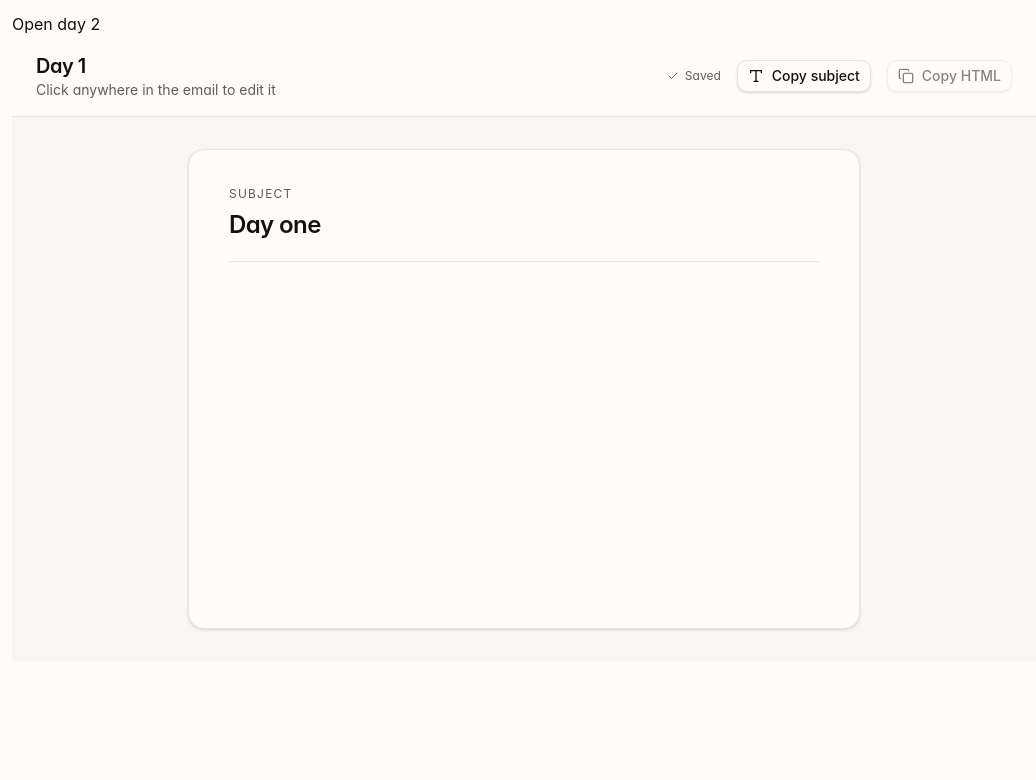
Test: EmailPreview save status and tab close › says Saving while an edit waits out the debounce, not Saved
Replace the text in the text box named "subject" with "Not yet saved" at point(524, 224), box x1=229 y1=208 x2=819 y2=241
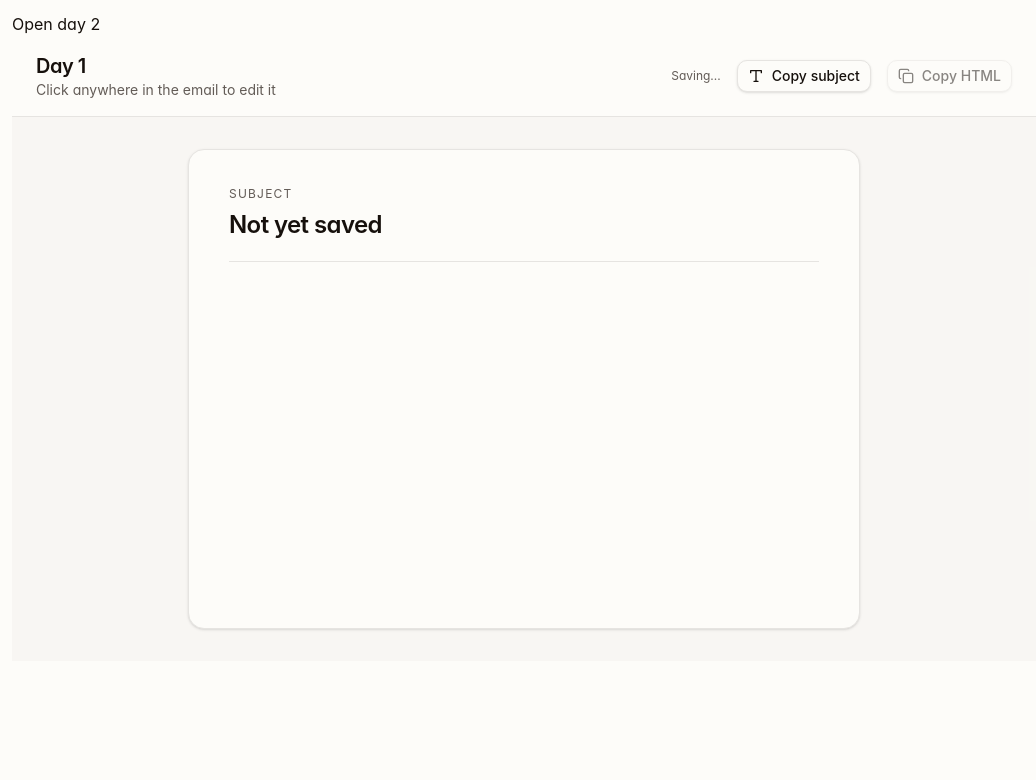
Expected: the text "Saving..." is shown, x1=671 y1=68 x2=721 y2=84
